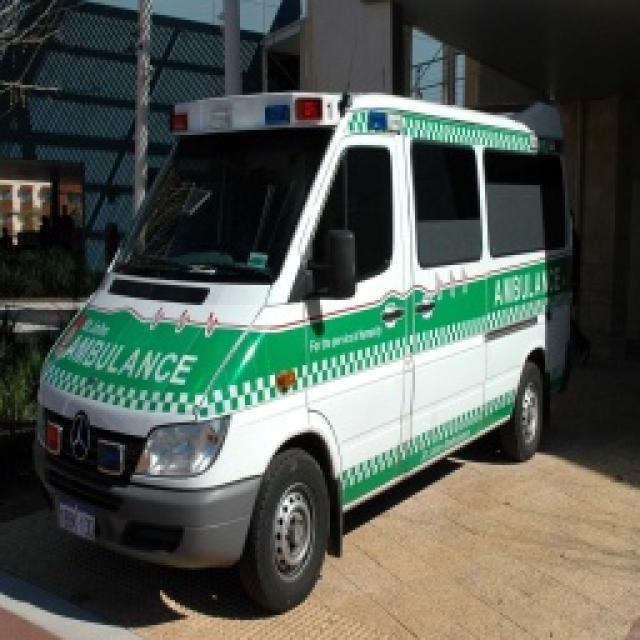emergency-vehicle: (38, 97, 578, 610)
